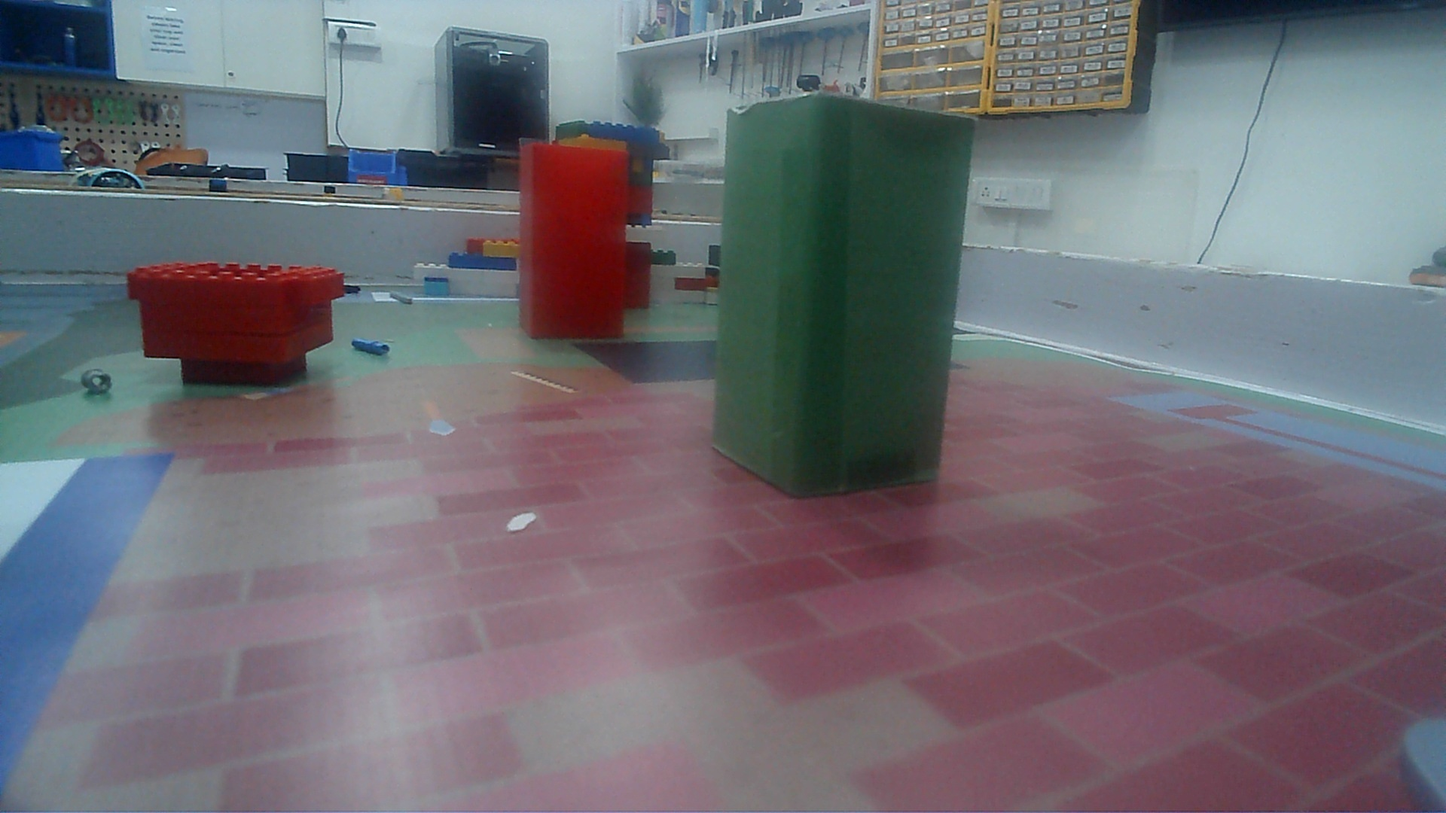green: (708, 107, 981, 501)
